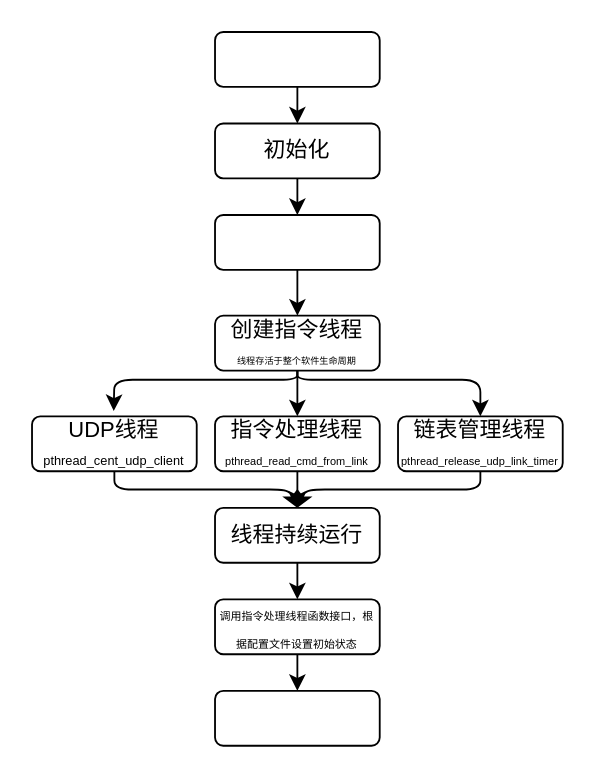
Image size: 595x778. Some labels were removed from this diagram. The centre of each missing label's shape, as x and y in pixels:
"while 1，事件循环" belongs at pixel 296 717.
"事件循环开始" belongs at pixel 296 58.
"注册所有事件 register_all_event_handler" belongs at pixel 296 241.
